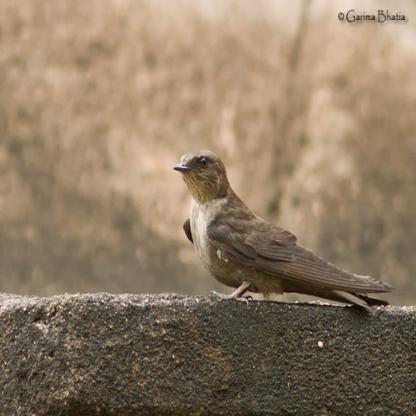Burung: (173, 148, 393, 309)
